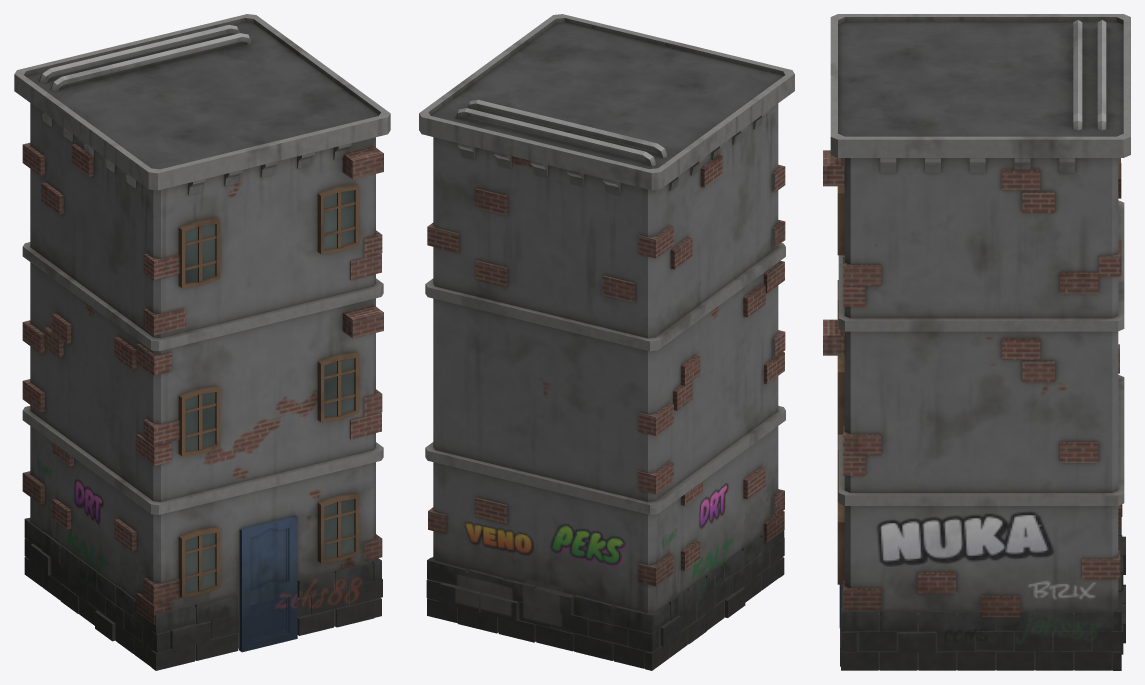
Rendered from building_3Story_Small.glb.
The picture shows the model from 3 angles, left to right: view 1: azimuth 30°, elevation 25°; view 2: azimuth 150°, elevation 25°; view 3: azimuth 270°, elevation 25°; orthographic projection. The views are drawn at different scales.
Parts seen in each view (by area): view 1: 3Story_Small_low; view 2: 3Story_Small_low; view 3: 3Story_Small_low.
Boxes of the visible parts, x1,y1,x2,y2 form: 3Story_Small_low: (14, 14, 390, 670); 3Story_Small_low: (419, 14, 794, 670); 3Story_Small_low: (823, 14, 1130, 670).
Bounding box in the file's own units: 1.91 × 3.85 × 1.97.
Materials: 2 (2 with a texture image).
